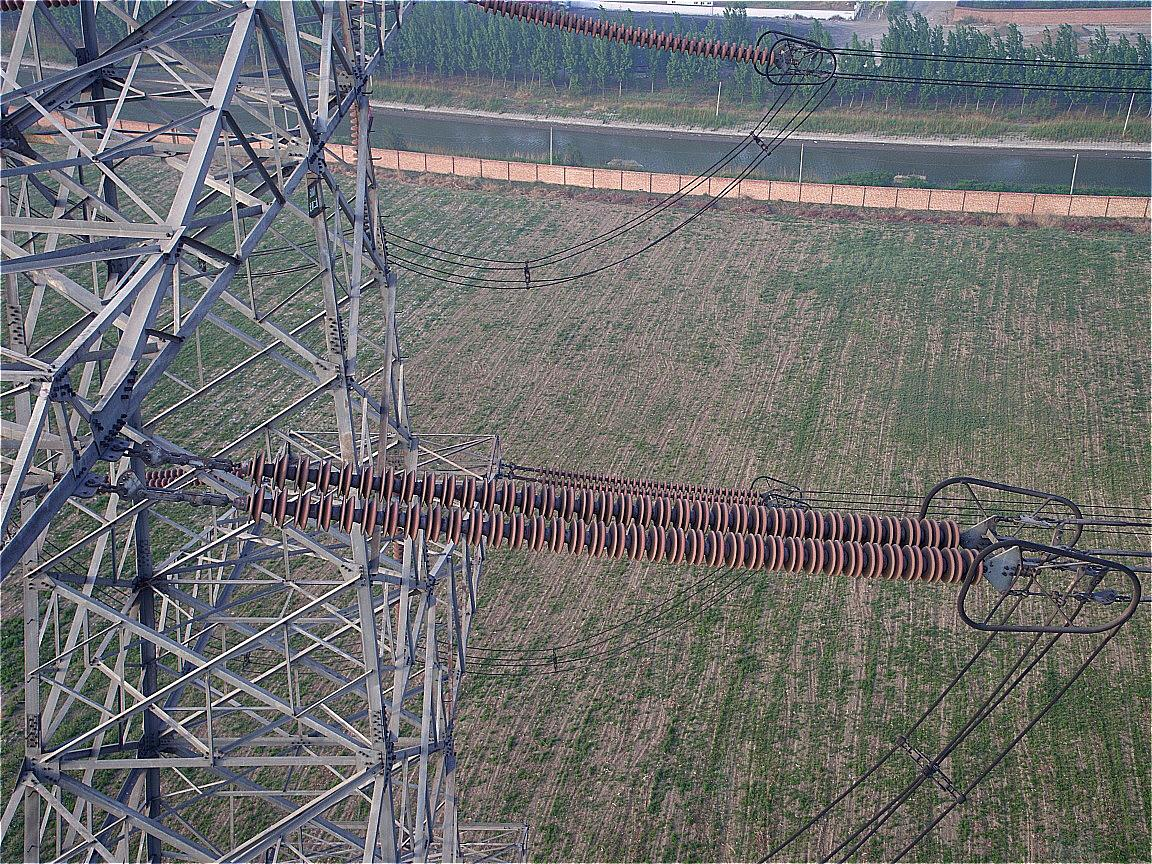insultor2: (221, 441, 1005, 599)
